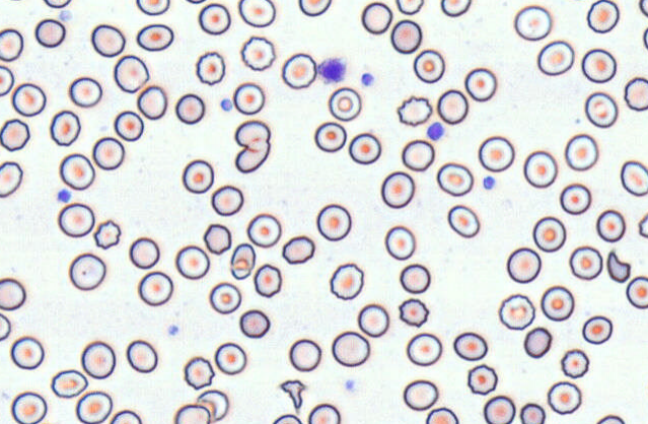PLT: (317, 57, 347, 84), (426, 121, 446, 142), (56, 187, 72, 204), (360, 71, 375, 88), (482, 174, 497, 190), (218, 97, 234, 112)
RBC: (68, 252, 106, 290), (331, 330, 370, 366), (113, 54, 149, 93), (498, 293, 535, 330), (513, 4, 551, 40), (59, 153, 95, 190), (281, 52, 317, 89), (478, 135, 514, 172), (329, 262, 364, 300), (316, 203, 351, 241), (81, 340, 115, 379), (137, 270, 173, 306), (57, 202, 94, 237), (537, 40, 574, 75), (380, 170, 414, 208), (523, 150, 557, 188), (564, 133, 598, 171), (506, 247, 541, 283), (240, 35, 275, 71), (436, 162, 473, 196), (584, 91, 618, 128), (246, 212, 281, 247), (581, 48, 616, 83), (406, 332, 442, 366), (532, 216, 566, 252), (540, 285, 574, 321), (75, 390, 112, 423), (175, 244, 209, 279), (11, 82, 46, 116), (90, 23, 125, 57), (327, 86, 361, 121), (569, 245, 603, 280), (10, 391, 47, 423), (10, 335, 44, 369), (547, 380, 581, 414), (234, 119, 270, 151), (49, 109, 80, 146), (464, 67, 497, 101), (413, 48, 445, 83), (436, 89, 468, 124), (396, 95, 432, 126), (50, 369, 88, 398), (288, 338, 321, 371), (586, 0, 619, 33), (390, 19, 422, 53), (357, 303, 389, 337), (92, 136, 124, 170), (447, 204, 479, 238), (182, 159, 214, 193), (403, 379, 438, 410), (384, 225, 415, 260), (209, 281, 241, 314), (214, 342, 246, 375), (401, 139, 434, 171), (210, 184, 243, 216), (198, 2, 230, 35), (348, 132, 381, 164), (68, 76, 102, 107), (126, 339, 157, 373), (136, 85, 167, 119), (136, 23, 173, 51), (238, 0, 276, 27), (361, 1, 392, 34), (183, 356, 214, 389), (233, 82, 264, 115), (453, 331, 487, 361), (195, 51, 225, 85), (314, 121, 346, 152), (559, 183, 591, 214), (129, 236, 159, 269), (0, 118, 30, 151), (253, 263, 282, 297), (620, 160, 647, 196), (229, 242, 255, 279), (113, 110, 144, 141), (596, 209, 625, 242), (398, 297, 429, 327), (399, 263, 430, 293), (282, 235, 314, 264), (467, 364, 497, 394), (34, 18, 65, 47), (239, 309, 270, 338), (175, 93, 204, 124), (523, 326, 551, 358), (483, 395, 515, 423), (560, 348, 589, 378), (582, 315, 612, 344), (203, 223, 231, 254), (0, 277, 26, 310), (0, 160, 23, 197), (93, 219, 121, 249), (624, 76, 648, 111), (0, 28, 23, 61), (625, 275, 647, 309), (174, 403, 211, 423), (307, 403, 340, 423), (425, 406, 458, 423), (519, 402, 545, 423), (298, 0, 331, 16), (440, 0, 471, 17), (135, 0, 170, 15), (109, 409, 142, 423), (0, 64, 14, 96), (395, 0, 424, 15), (0, 312, 11, 341), (272, 413, 302, 423), (638, 211, 648, 238), (595, 414, 625, 423), (43, 0, 71, 8), (639, 0, 648, 17), (642, 26, 648, 50), (184, 0, 206, 4), (563, 0, 589, 2), (3, 0, 26, 1)
Schistocyte: (235, 139, 272, 173), (605, 248, 632, 284), (280, 379, 307, 410)
